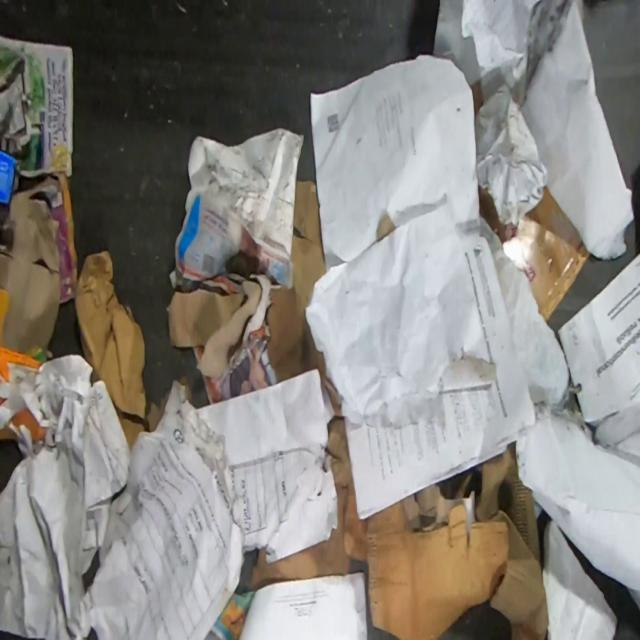cardboard: (342, 494, 510, 640), (74, 248, 170, 453), (479, 183, 591, 322), (0, 345, 48, 439)
